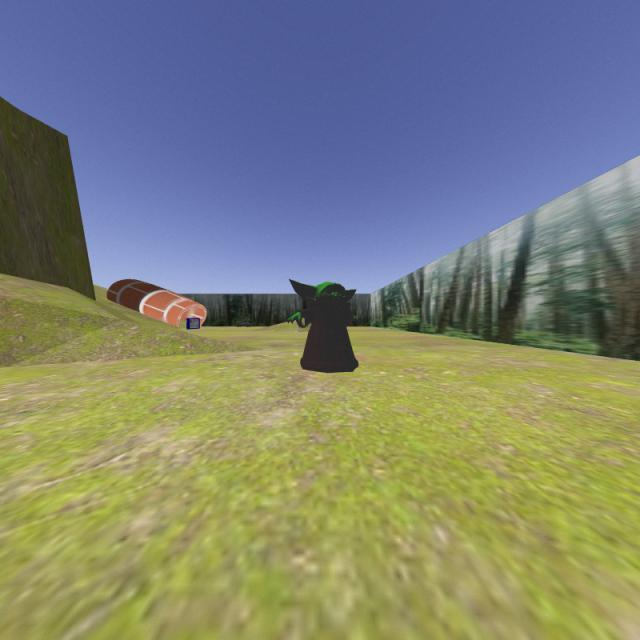yoda: (285, 276, 367, 374)
